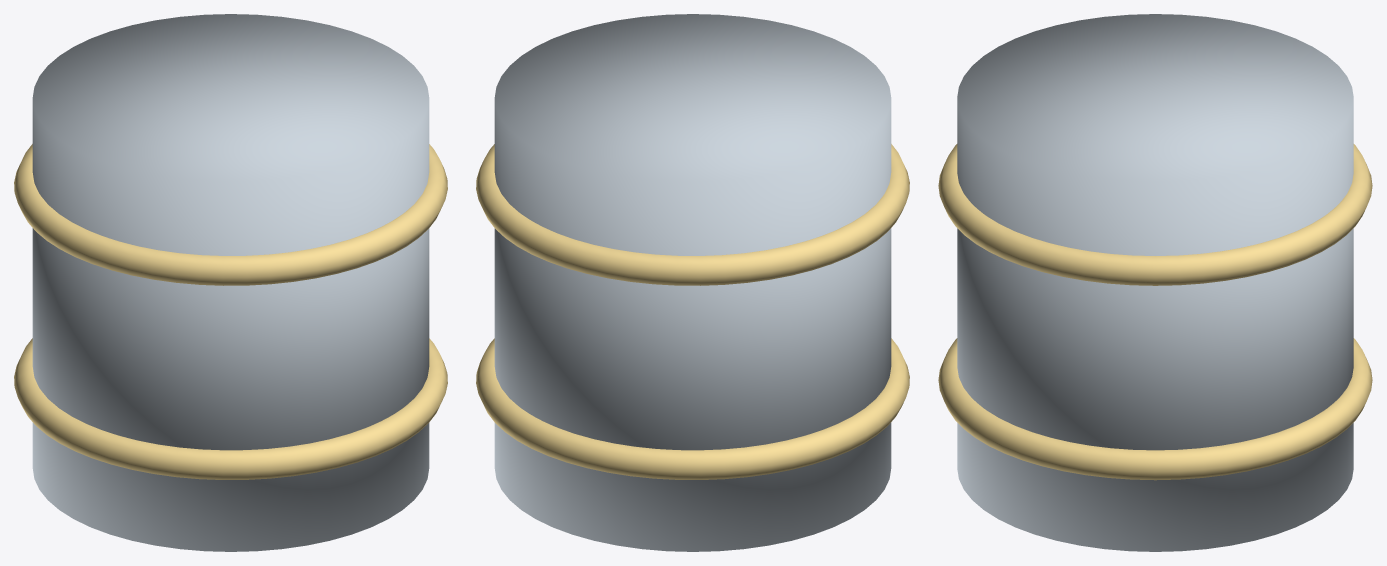
The model's file is 52_L93_ThermalVacuumChamber.fbx.
3 views of the same model, side by side, from view 1: azimuth 30°, elevation 25°; view 2: azimuth 150°, elevation 25°; view 3: azimuth 270°, elevation 25° (orthographic).
Visible parts, largest first — view 1: L92_ThermalVacuumChamber_Part_0000, L92_ThermalVacuumChamber_Part_0001; view 2: L92_ThermalVacuumChamber_Part_0000, L92_ThermalVacuumChamber_Part_0001; view 3: L92_ThermalVacuumChamber_Part_0000, L92_ThermalVacuumChamber_Part_0001.
Part boxes in pixels (x1,y1,x2,y2): L92_ThermalVacuumChamber_Part_0000: (32,14,429,551); L92_ThermalVacuumChamber_Part_0001: (14,144,447,479); L92_ThermalVacuumChamber_Part_0000: (494,14,891,551); L92_ThermalVacuumChamber_Part_0001: (476,144,909,479); L92_ThermalVacuumChamber_Part_0000: (957,14,1353,551); L92_ThermalVacuumChamber_Part_0001: (938,144,1372,480).
Bounding box in the file's own units: 3.24 × 3.05 × 3.24.
